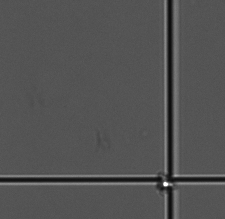Living Cell: (159, 178, 172, 190)
